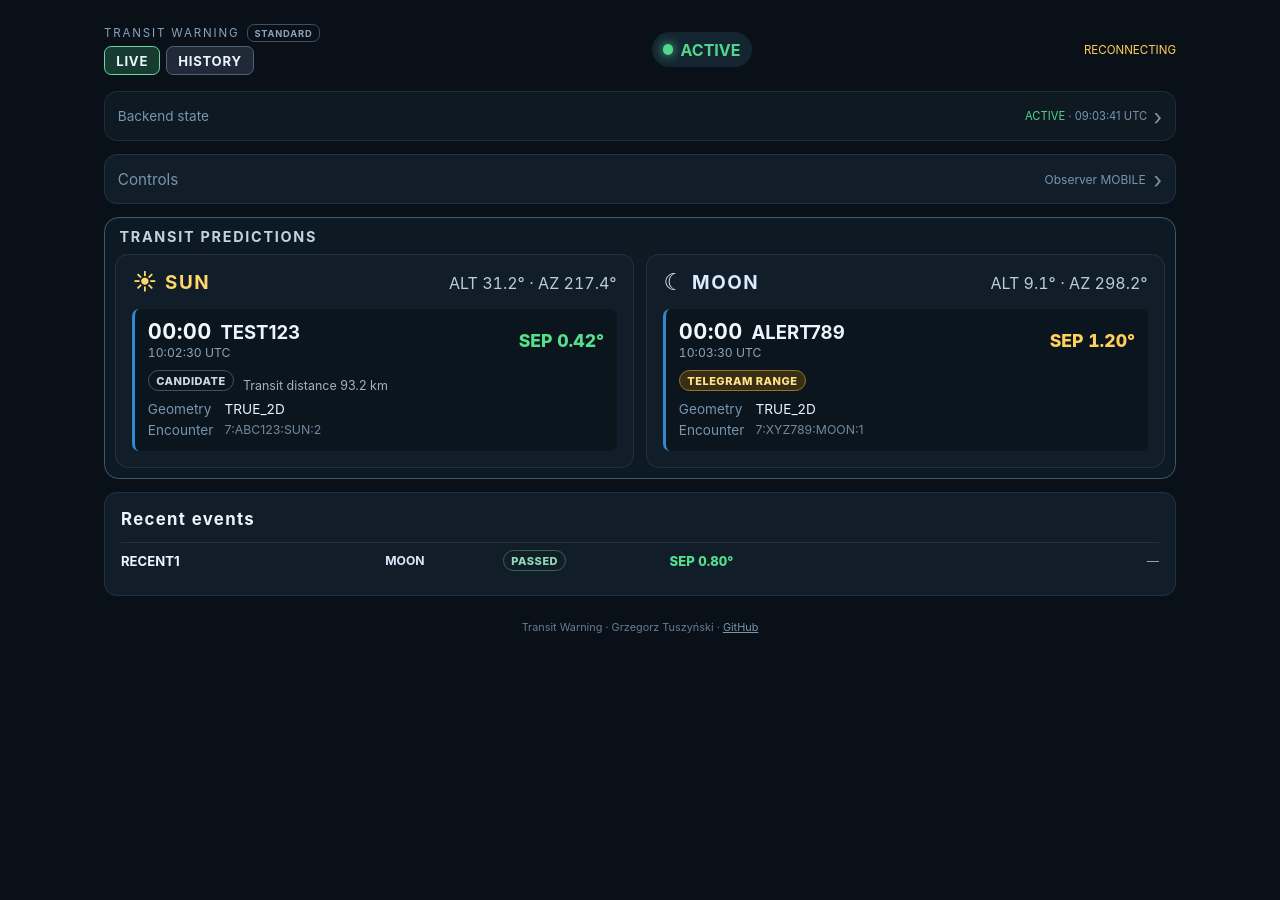
STANDARD final controls › keeps authoritative MOBILE_FRESH concise while collapsed
This screenshot has width=1280, height=900.
Check: the element with id "controls-observer-summary" reads "Observer MOBILE", box [1044,172,1146,187]
Click the button "Controls Observer MOBILE ›": point(148, 179) [105,155,1175,203]
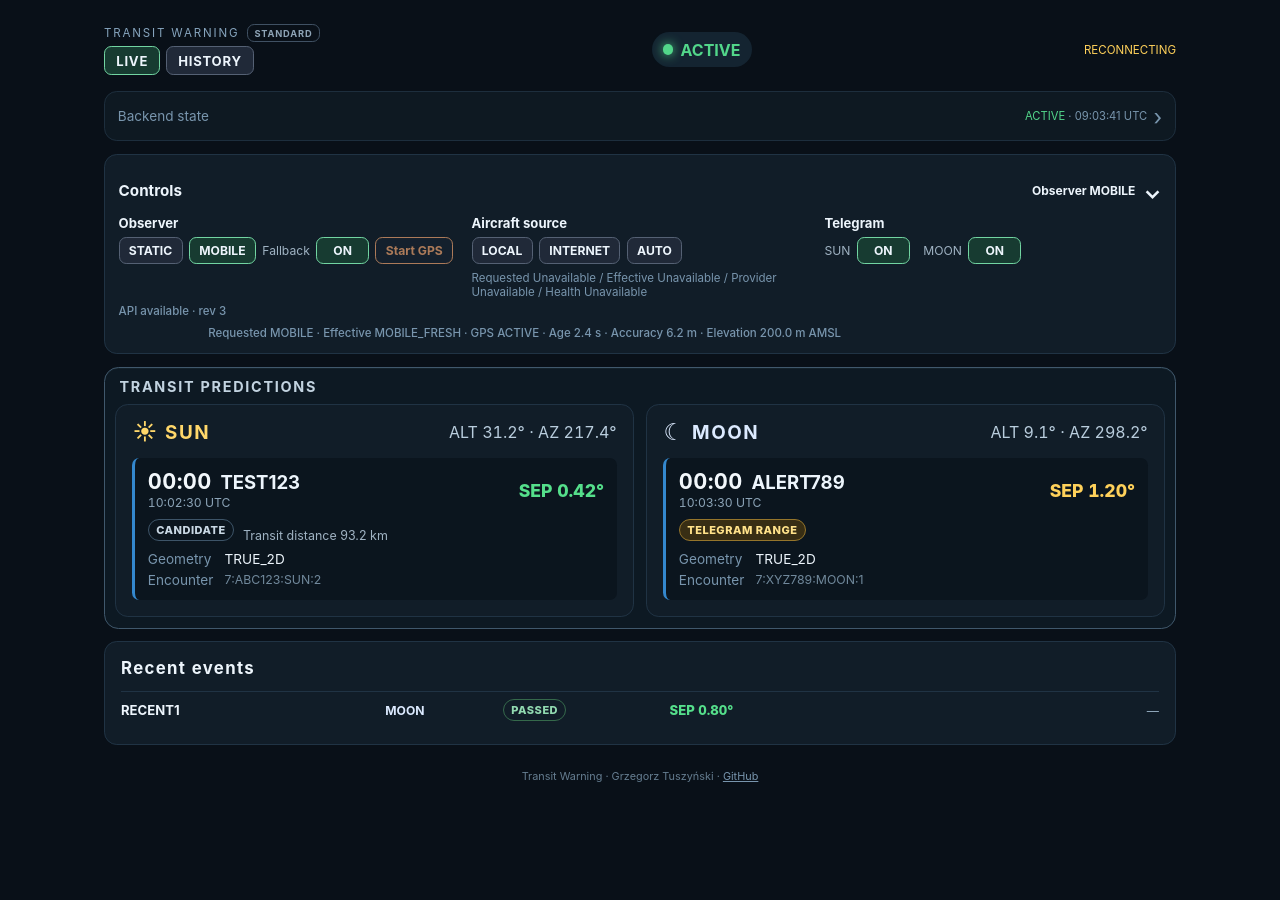
Check: the button "Start GPS" is shown, box [376,237,453,264]
